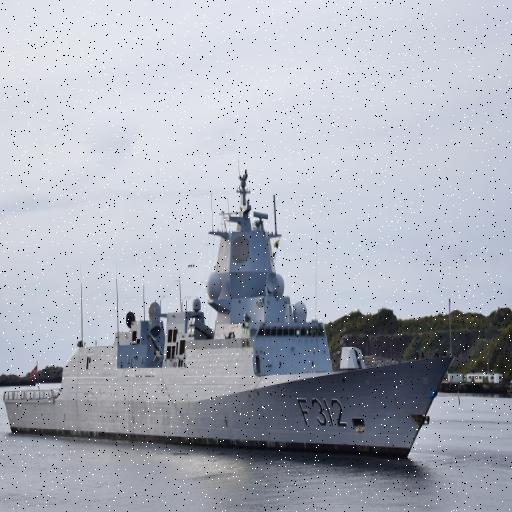Fragata: (2, 161, 462, 469)
